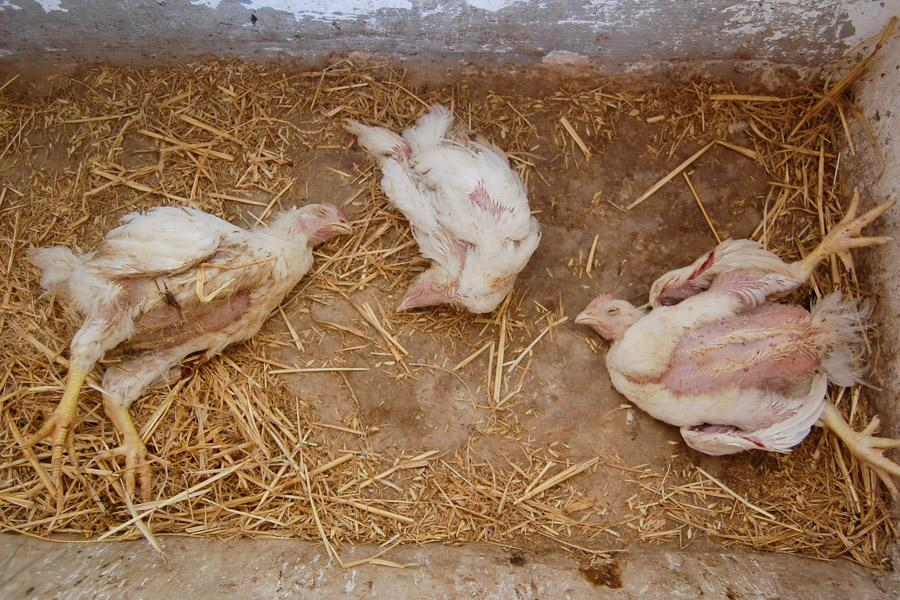AbNormal: (35, 184, 352, 485), (575, 209, 900, 467), (343, 104, 546, 317)
